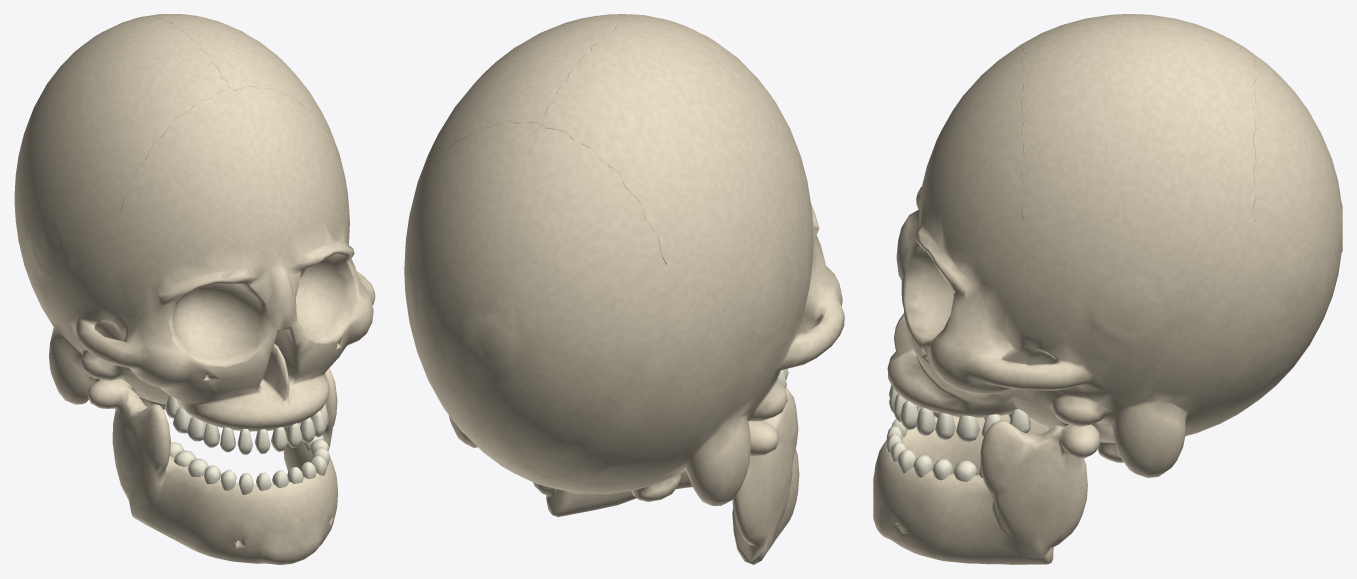
The model's file is skull.glb.
3 renders of one model, left to right at view 1: azimuth 30°, elevation 25°; view 2: azimuth 150°, elevation 25°; view 3: azimuth 270°, elevation 25°, orthographic. The views are drawn at different scales.
Parts seen in each view (by area): view 1: Hollow neurocranium and facial bones, Mandible with paired rami and condyles; view 2: Hollow neurocranium and facial bones, Mandible with paired rami and condyles; view 3: Hollow neurocranium and facial bones, Mandible with paired rami and condyles.
Part boxes in pixels (x1,y1,x2,y2): Hollow neurocranium and facial bones: (14, 14, 375, 431); Mandible with paired rami and condyles: (87, 368, 337, 564); Hollow neurocranium and facial bones: (404, 14, 844, 505); Mandible with paired rami and condyles: (533, 387, 799, 564); Hollow neurocranium and facial bones: (887, 14, 1342, 477); Mandible with paired rami and condyles: (873, 414, 1099, 564).
Size of the model in its own units: 0.1495 by 0.2346 by 0.1973.
Materials: 3 (3 with a texture image).
